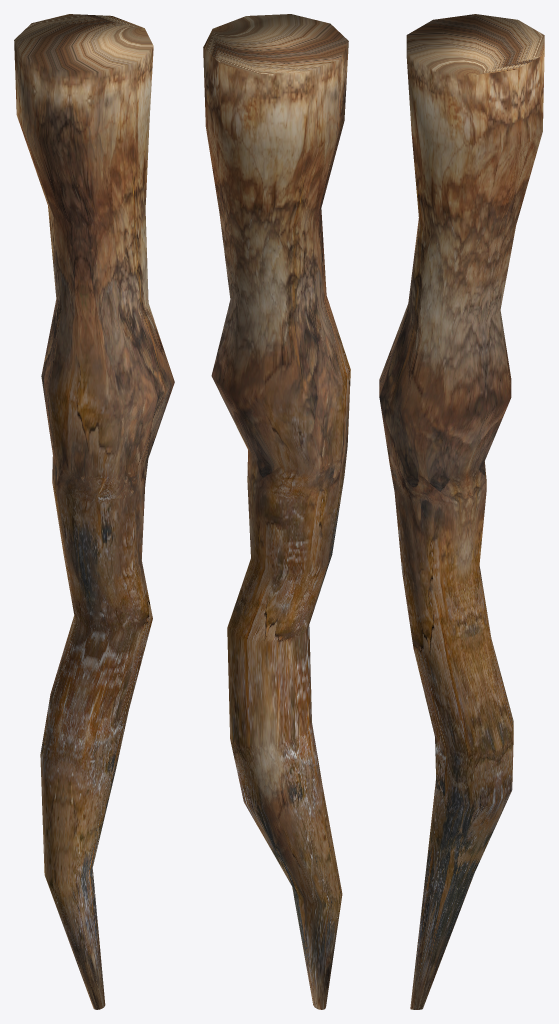
File: stalag3.obj
3 renders of one model, left to right at view 1: azimuth 30°, elevation 25°; view 2: azimuth 150°, elevation 25°; view 3: azimuth 270°, elevation 25°, orthographic. The views are drawn at different scales.
Parts seen in each view (by area): view 1: stalag1; view 2: stalag1; view 3: stalag1.
Part boxes in pixels (x1,y1,x2,y2): stalag1: [14, 14, 174, 1009]; stalag1: [203, 14, 350, 1009]; stalag1: [379, 14, 544, 1009].
Bounding box in the file's own units: 17.01 × 119 × 18.31.
1 material, 1 textured.
